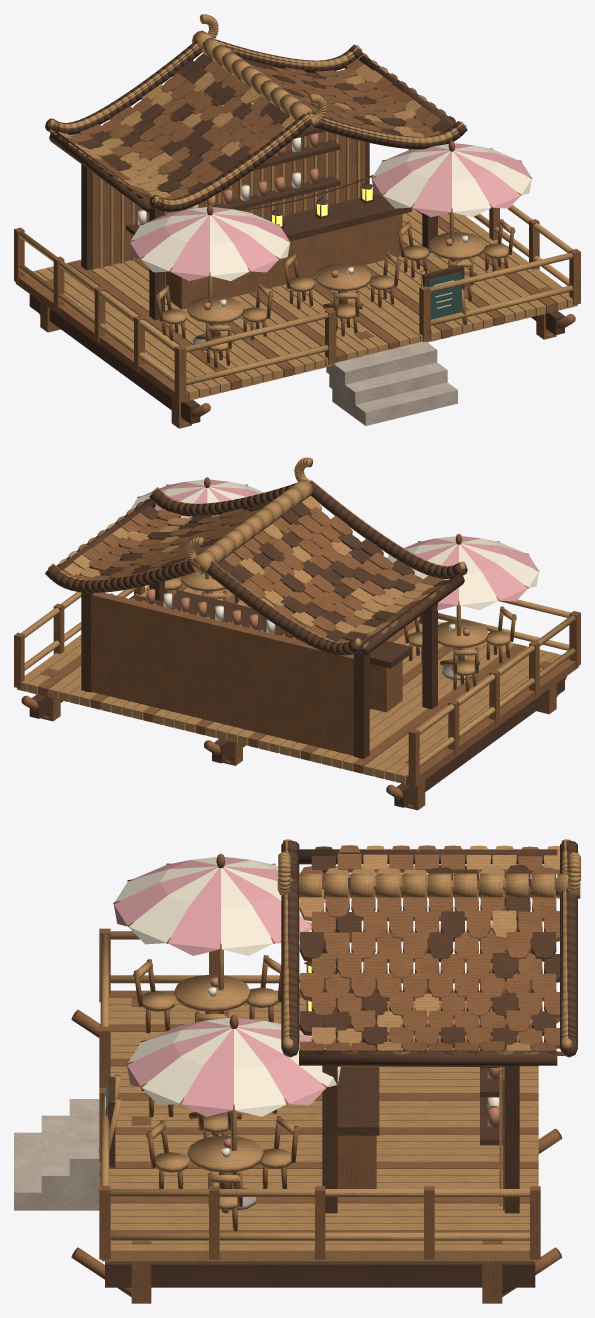
Rendered from cafe_pavilion.glb.
3 renders of one model, top to bottom at view 1: azimuth 30°, elevation 25°; view 2: azimuth 150°, elevation 25°; view 3: azimuth 270°, elevation 25°, orthographic. The views are drawn at different scales.
Parts seen in each view (by area): view 1: cafe_pavilion; view 2: cafe_pavilion; view 3: cafe_pavilion.
Boxes of the visible parts, <box> form: cafe_pavilion: <box>14,14,580,428</box>; cafe_pavilion: <box>14,457,580,810</box>; cafe_pavilion: <box>14,839,580,1303</box>.
Size of the model in its own units: 9.37 by 5.52 by 8.56.
12 materials, 5 textured.
